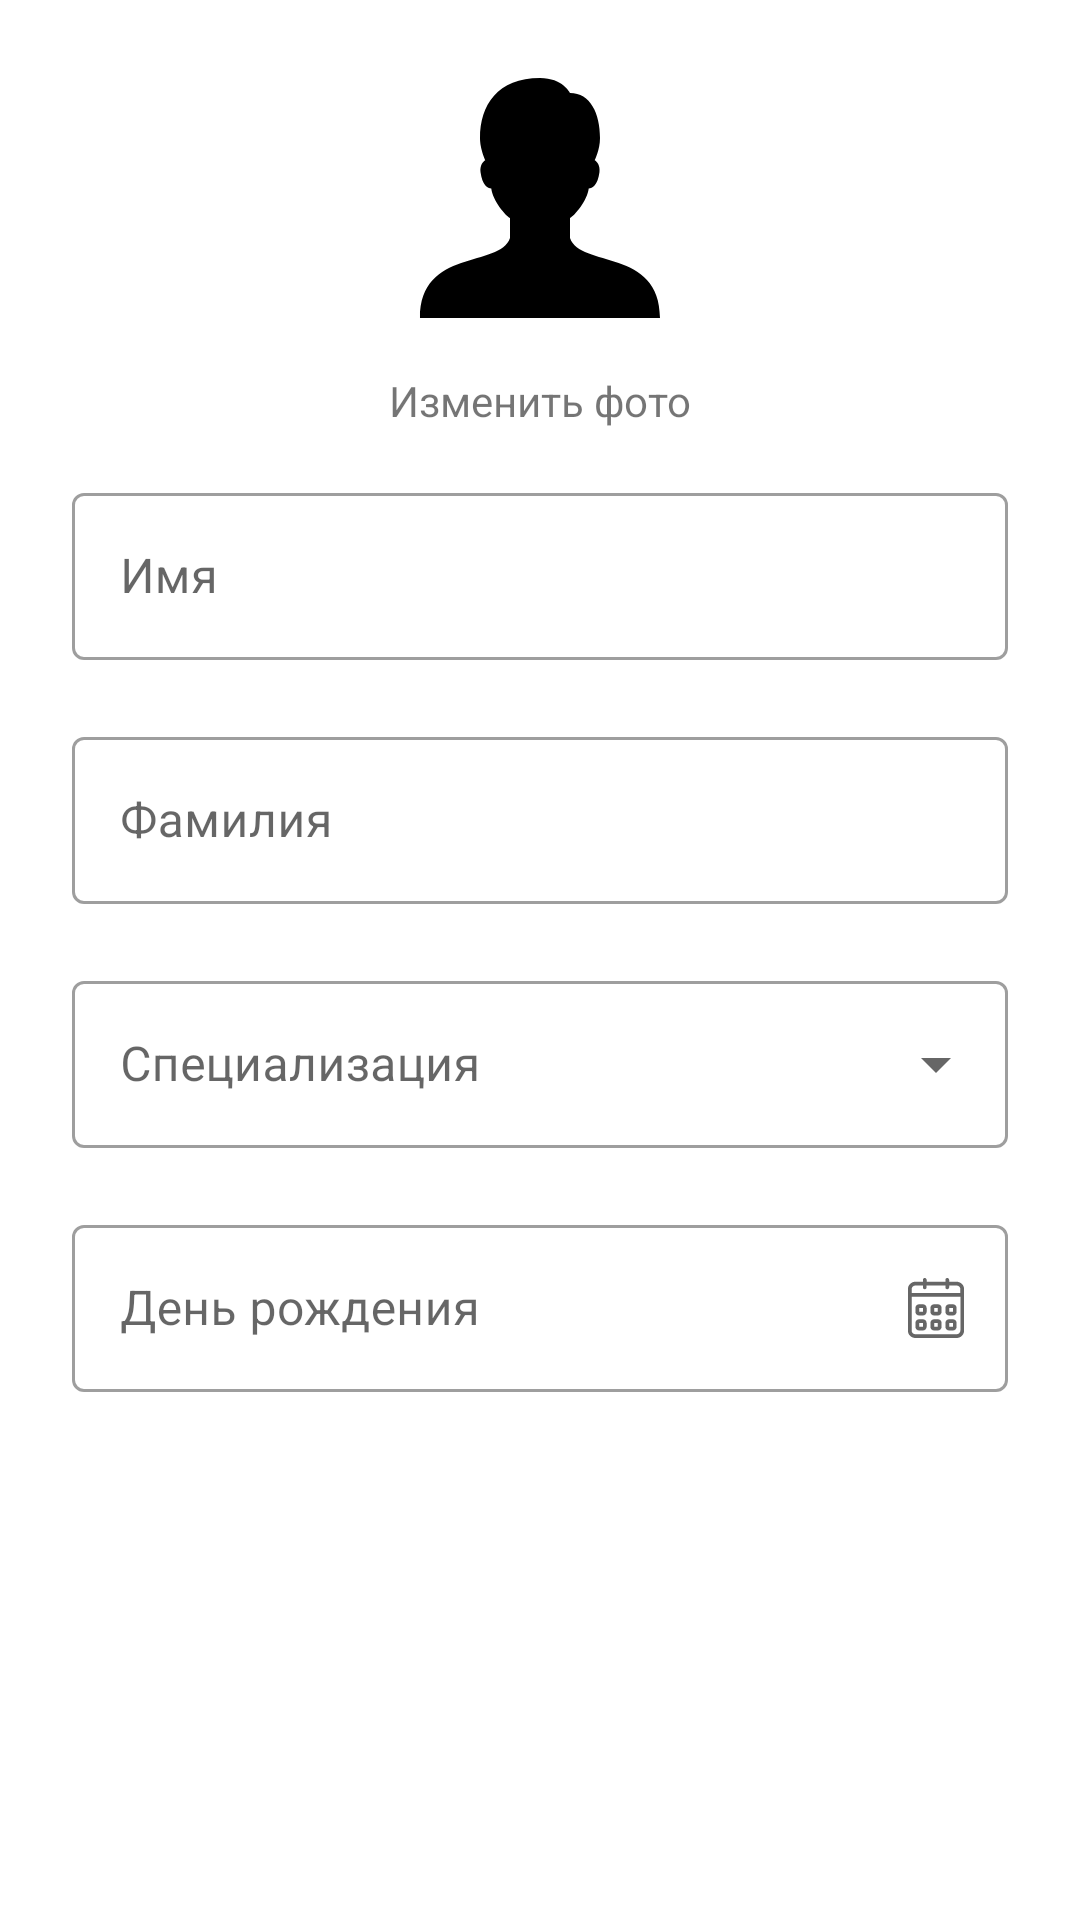

Named icons in this screenshot (1080×1920) and their centers, (x=x, y=y):
person: (x=540, y=198)
